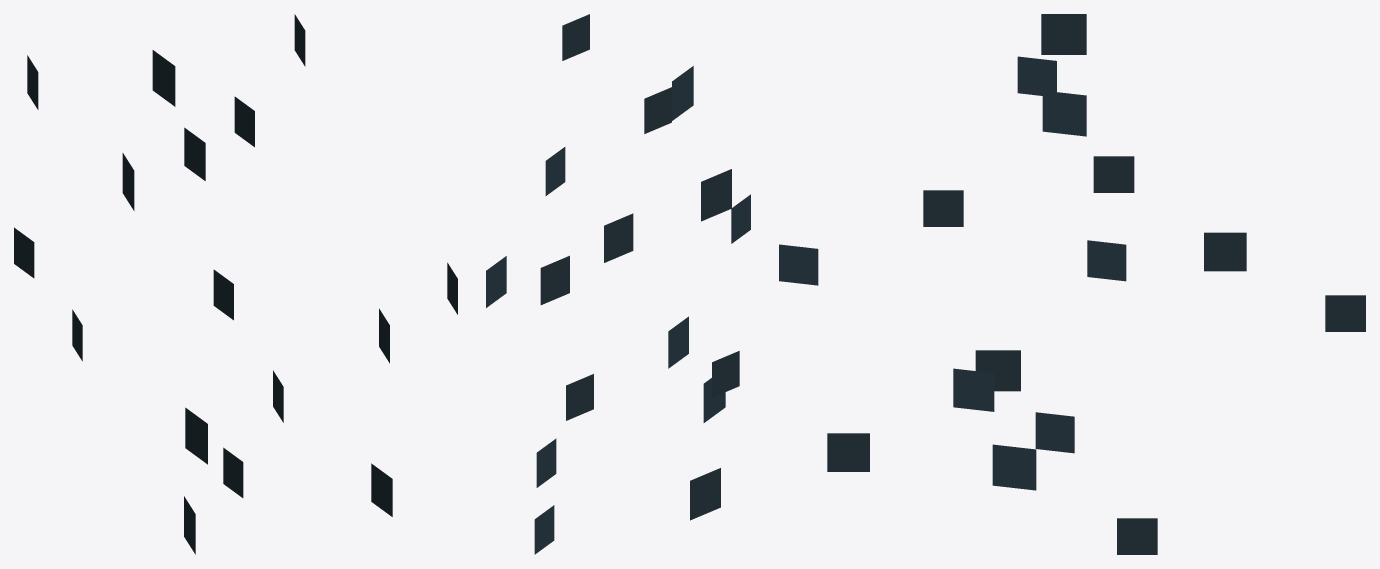
The model's file is flies01.obj.
3 renders of one model, left to right at view 1: azimuth 30°, elevation 25°; view 2: azimuth 150°, elevation 25°; view 3: azimuth 270°, elevation 25°, orthographic. The views are drawn at different scales.
Parts seen in each view (by area): view 1: FLIES010; view 2: FLIES010; view 3: FLIES010.
Boxes of the visible parts, x1=… form: FLIES010: x1=14, y1=14, x2=457, y2=554; FLIES010: x1=486, y1=14, x2=750, y2=554; FLIES010: x1=779, y1=14, x2=1365, y2=554.
Size of the model in its own units: 0.2746 by 0.5255 by 0.5536.
Materials: 1 (1 with a texture image).
